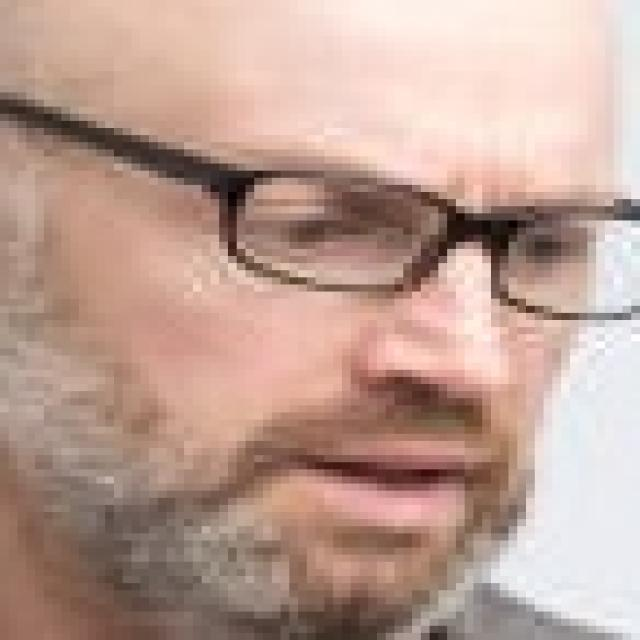Anxiety: (9, 0, 605, 633)
